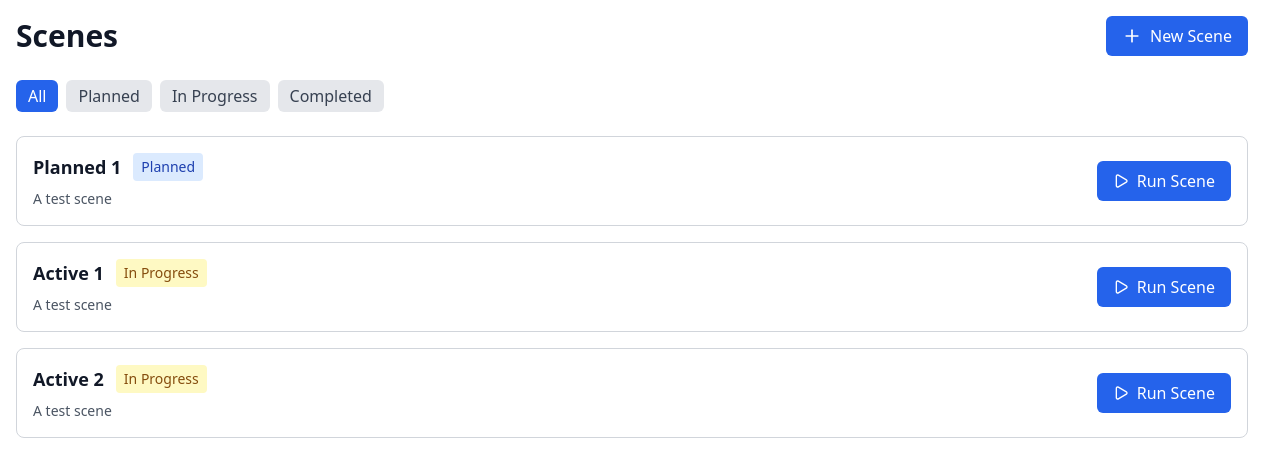
Test: Scene List Page - Status Filtering › should filter to show only active scenes
Click the button "In Progress" at (215, 96), box [160,80,270,112]
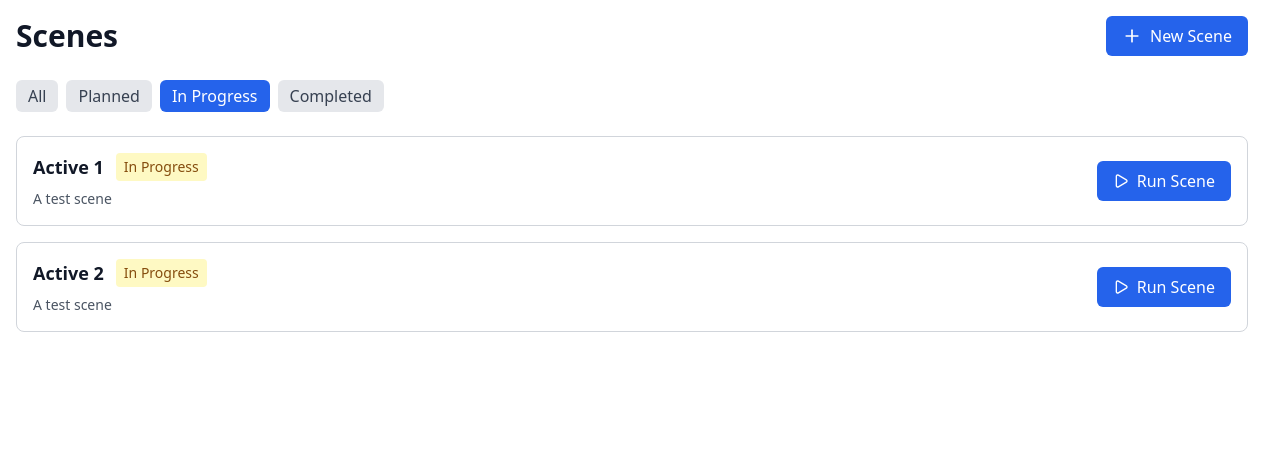
Expected: the heading "Active 1" is shown, [33,153,104,181]
Expected: the heading "Planned 1" is gone
